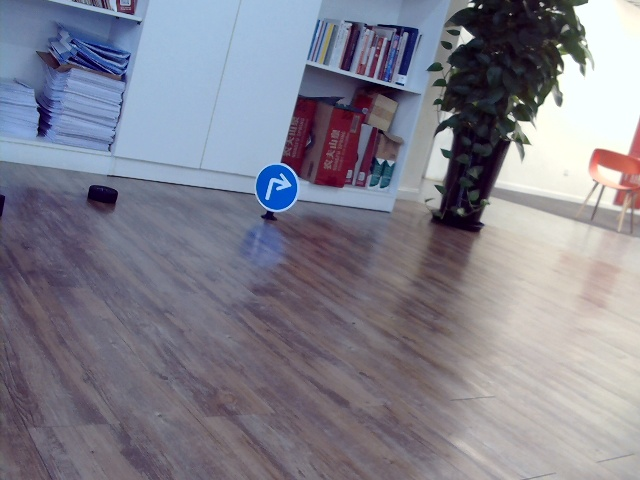turn_right: (262, 169, 289, 203)
